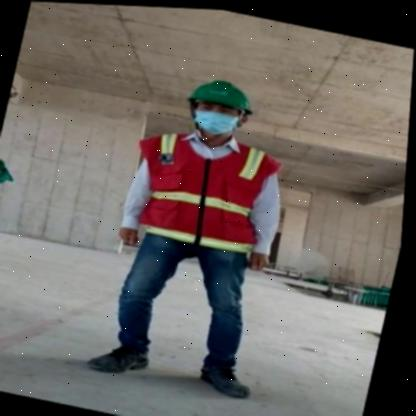person: (83, 49, 303, 413)
